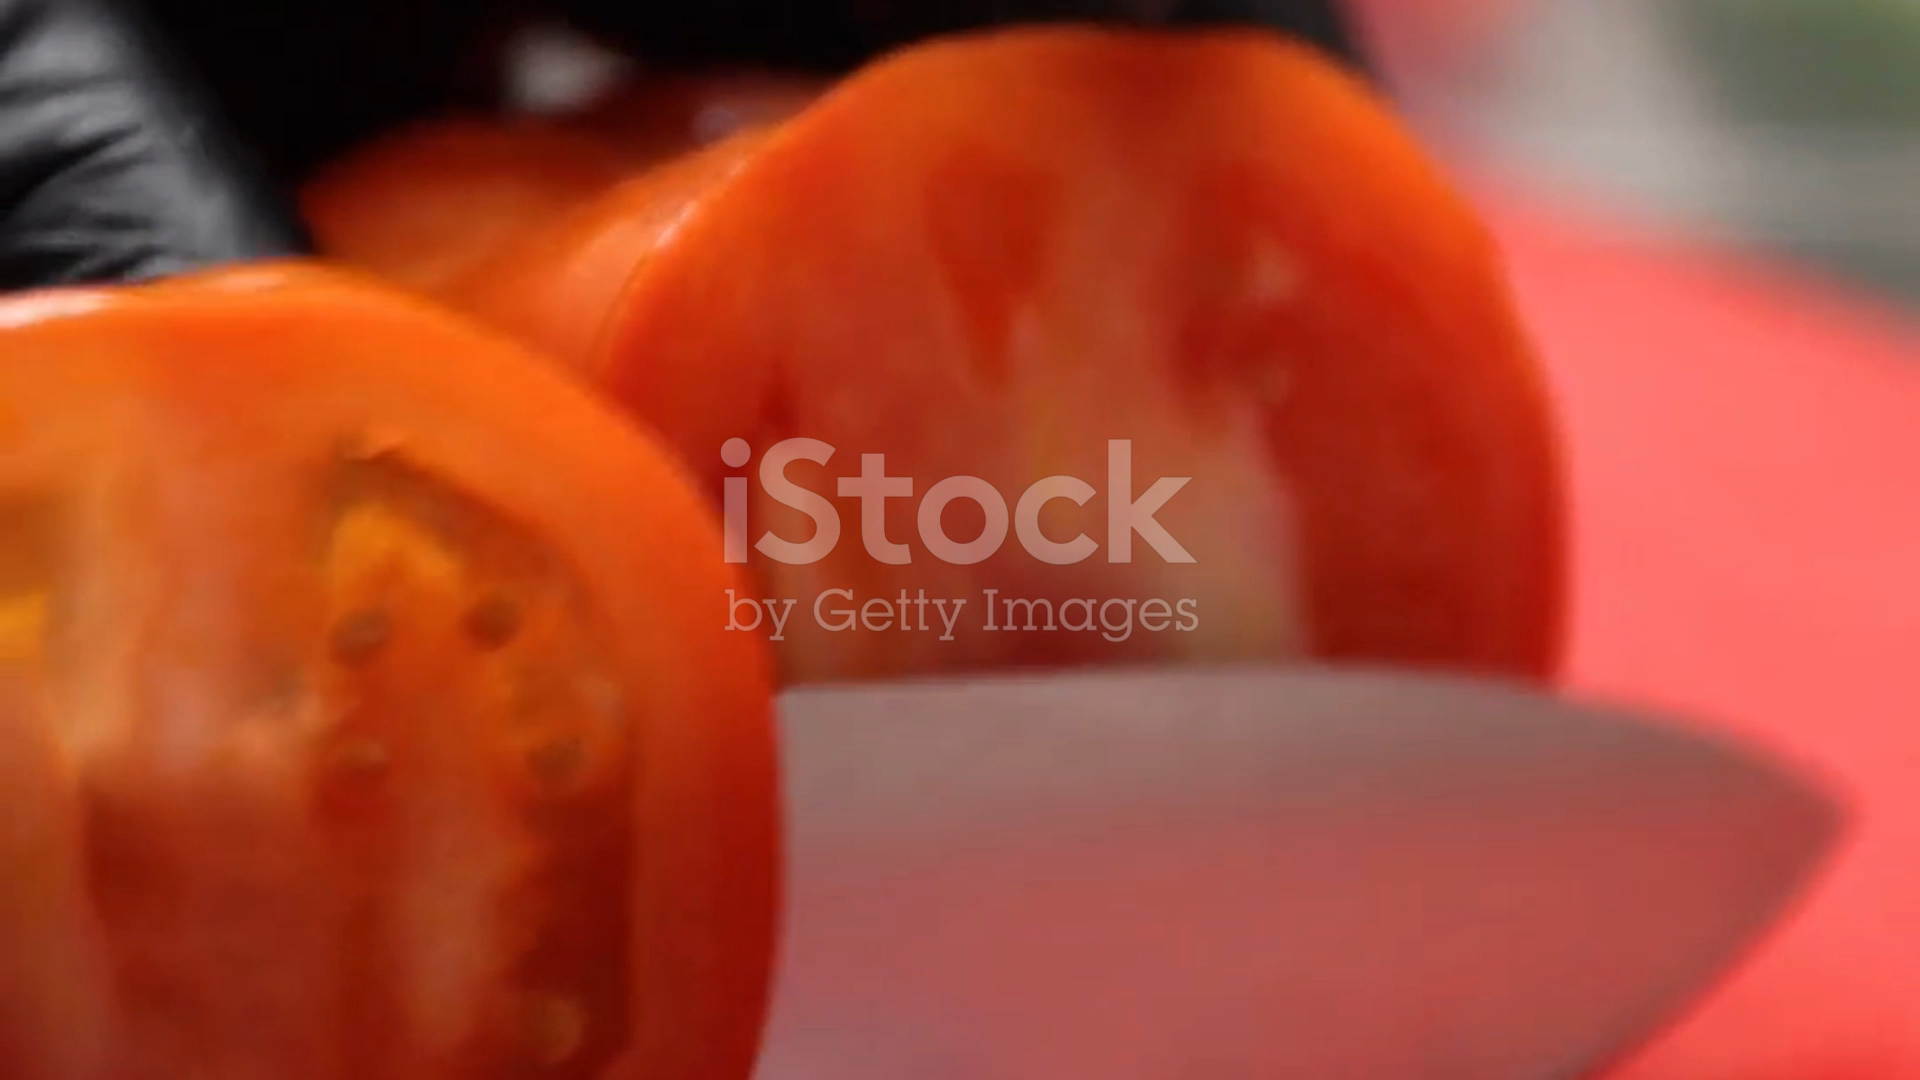cortante: (724, 671, 1859, 1080)
